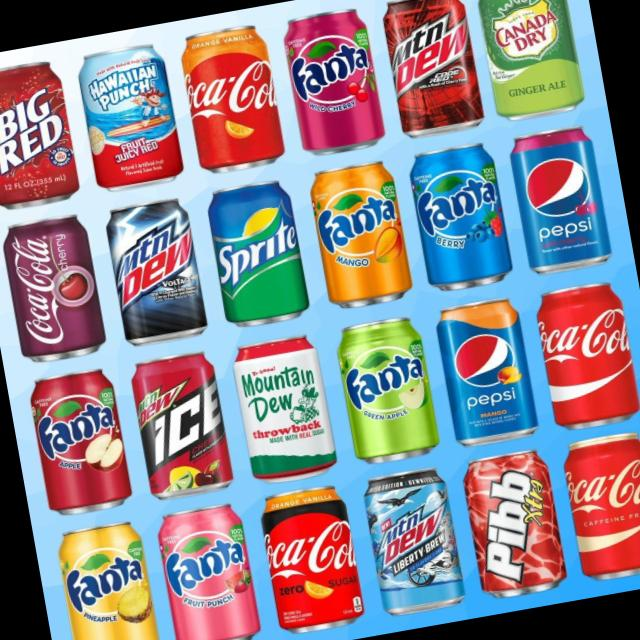cocacola: (534, 269, 640, 431), (173, 23, 284, 174), (557, 425, 640, 583)
fanta: (303, 157, 418, 310)
sprite: (202, 177, 318, 334)
